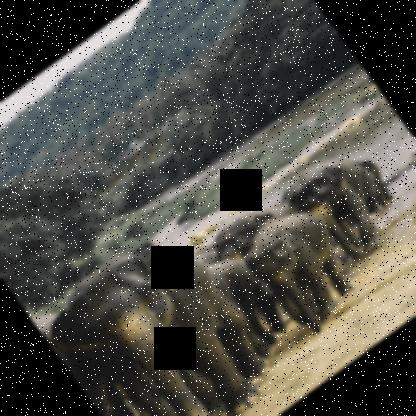Elephas-maximus: (30, 214, 300, 415), (202, 192, 348, 346), (229, 193, 374, 346), (272, 142, 402, 277), (335, 152, 400, 222)
